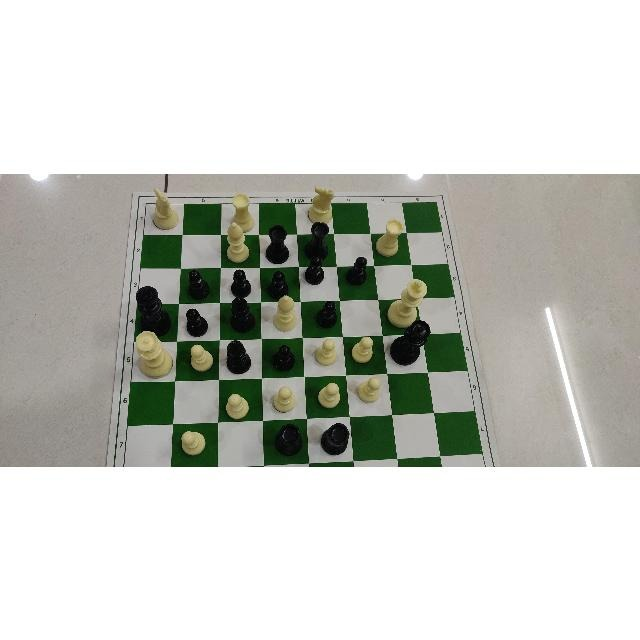black-bishop: (229, 293, 256, 333), (225, 339, 252, 374)
black-king: (134, 284, 172, 336)
black-pawn: (187, 268, 211, 300), (184, 307, 209, 337), (270, 342, 295, 372), (266, 270, 290, 300), (345, 254, 368, 285), (304, 253, 325, 285), (230, 267, 252, 297), (315, 298, 337, 327)
black-queen: (390, 318, 432, 368)
black-rook: (304, 220, 330, 261), (319, 421, 350, 455), (274, 421, 304, 456), (264, 223, 289, 264)
white-bishop: (225, 221, 251, 263), (272, 293, 298, 333)
white-king: (387, 277, 429, 327)
white-knight: (151, 186, 179, 230), (307, 184, 334, 222)
white-pawn: (313, 336, 338, 365), (271, 383, 296, 412), (189, 342, 214, 371), (180, 428, 206, 455), (350, 335, 374, 364), (224, 393, 250, 419), (358, 376, 382, 404), (318, 381, 342, 409)
white-queen: (135, 329, 174, 379)
white-rook: (374, 217, 404, 257), (228, 190, 256, 232)
